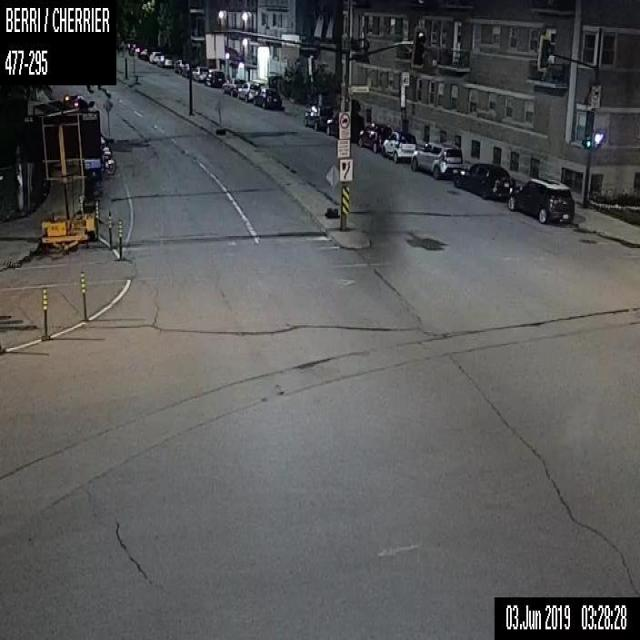construction: (24, 93, 102, 251), (325, 163, 338, 216), (79, 269, 89, 323), (214, 96, 226, 136), (41, 288, 50, 339), (103, 99, 112, 132), (117, 217, 122, 260), (107, 211, 112, 248)
vehicle: (507, 178, 573, 221), (451, 161, 515, 199), (410, 141, 462, 180), (380, 130, 416, 162), (326, 112, 364, 139), (358, 122, 392, 151), (304, 104, 332, 130), (253, 87, 281, 108), (237, 81, 259, 101), (222, 77, 246, 94), (204, 69, 223, 86), (192, 65, 208, 82), (157, 54, 172, 67), (149, 50, 162, 63), (180, 62, 189, 78), (174, 59, 184, 73), (139, 48, 149, 58)
